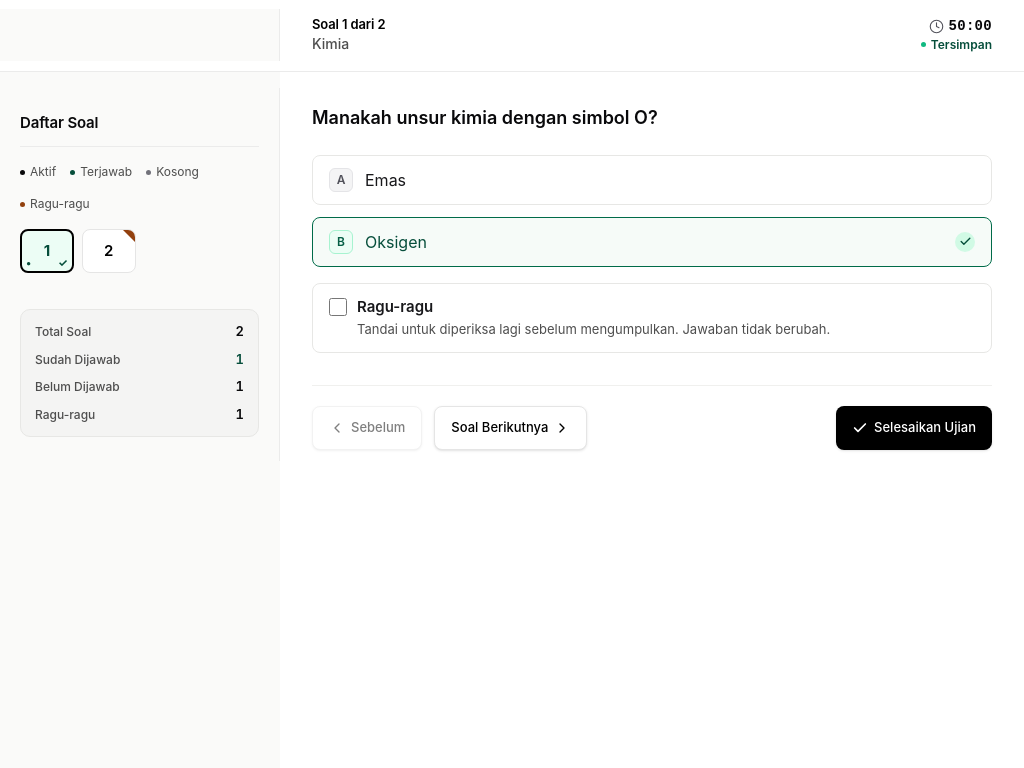
it: Ragu-ragu in the exam screen › reminds about marked questions when submitting, without blocking it, and forgets them afterwards
The width and height of the screenshot is (1024, 768).
Expected: the text "Manakah unsur kimia dengan simbol O?" is shown, [312,104,658,130]
Click the button "Selesaikan Ujian".
click(914, 428)  # box [836,406,992,450]
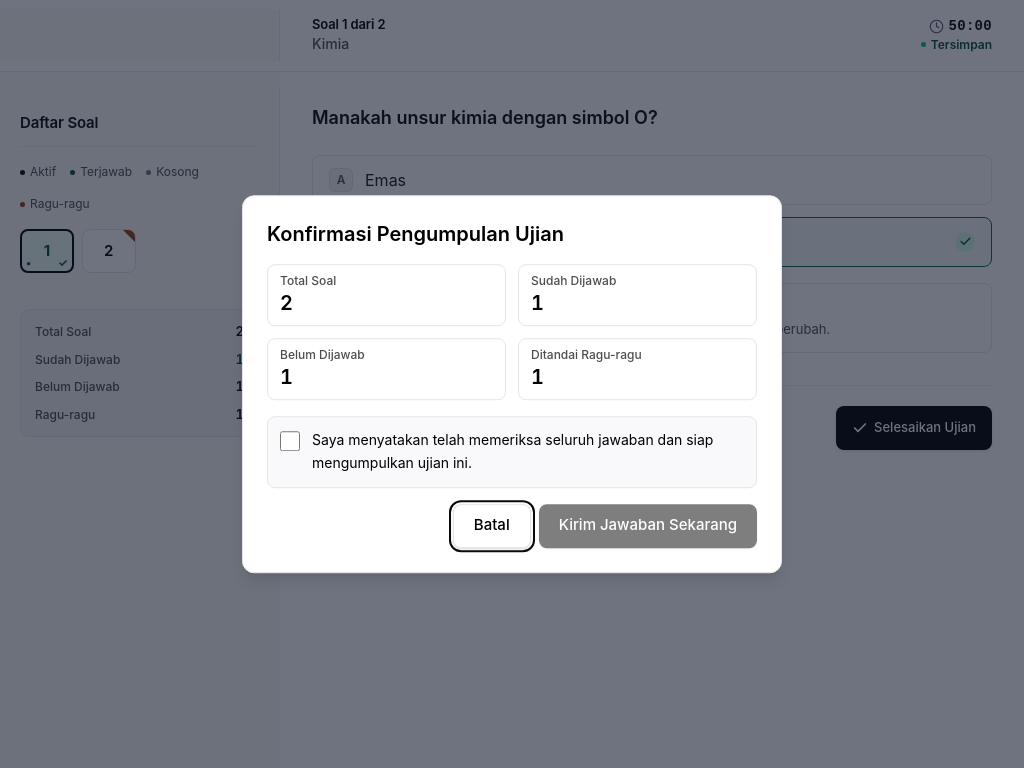
Result: the text "1" below "Ditandai Ragu-ragu" is shown at [531,365,544,389]
Click the checkbox.
click(290, 441)  # box [280,431,300,451]
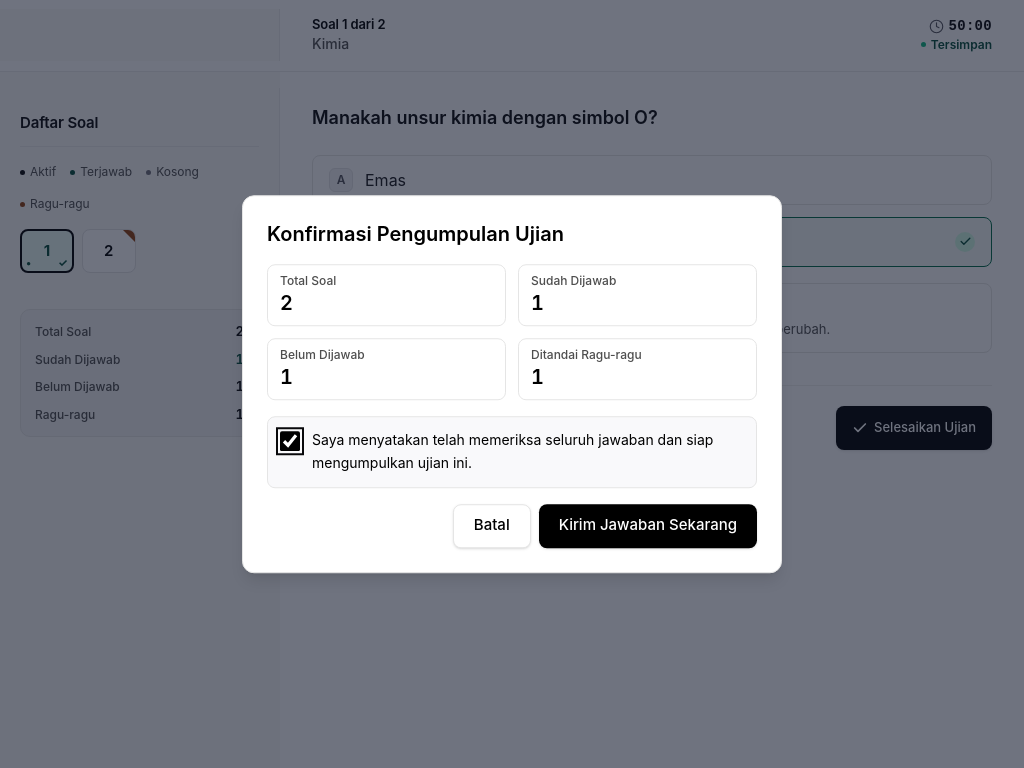
Click the button "Kirim Jawaban Sekarang".
click(648, 526)  # box [539,504,757,548]
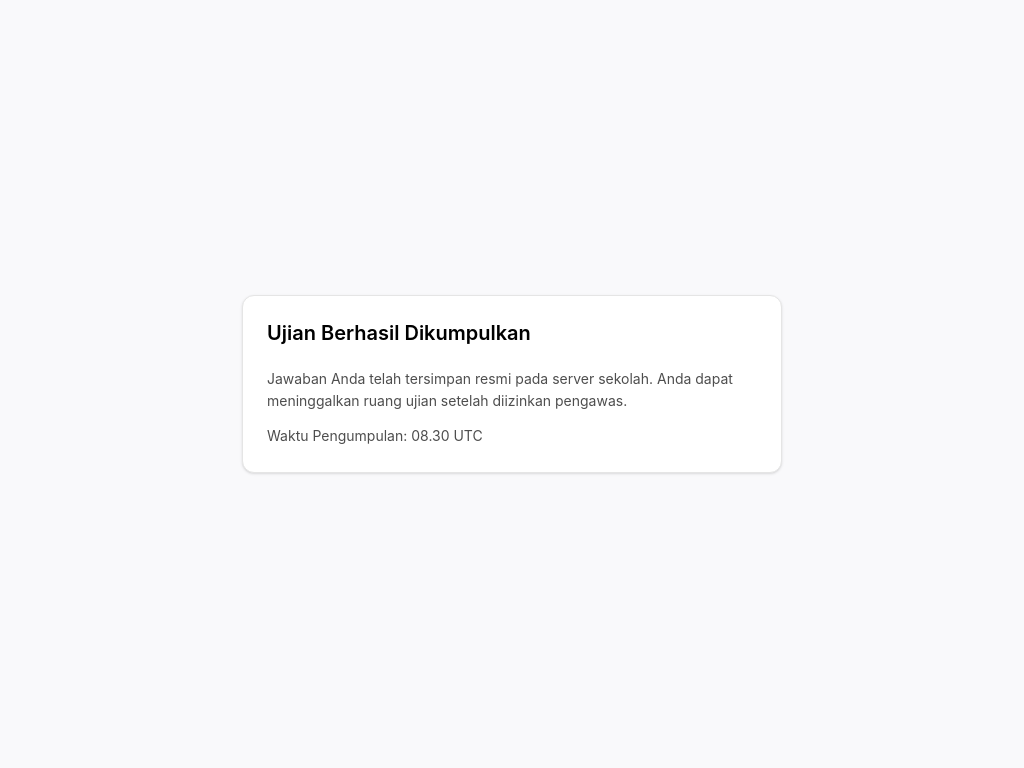
Result: the heading "Ujian Berhasil Dikumpulkan" is shown at [267,321,531,345]
